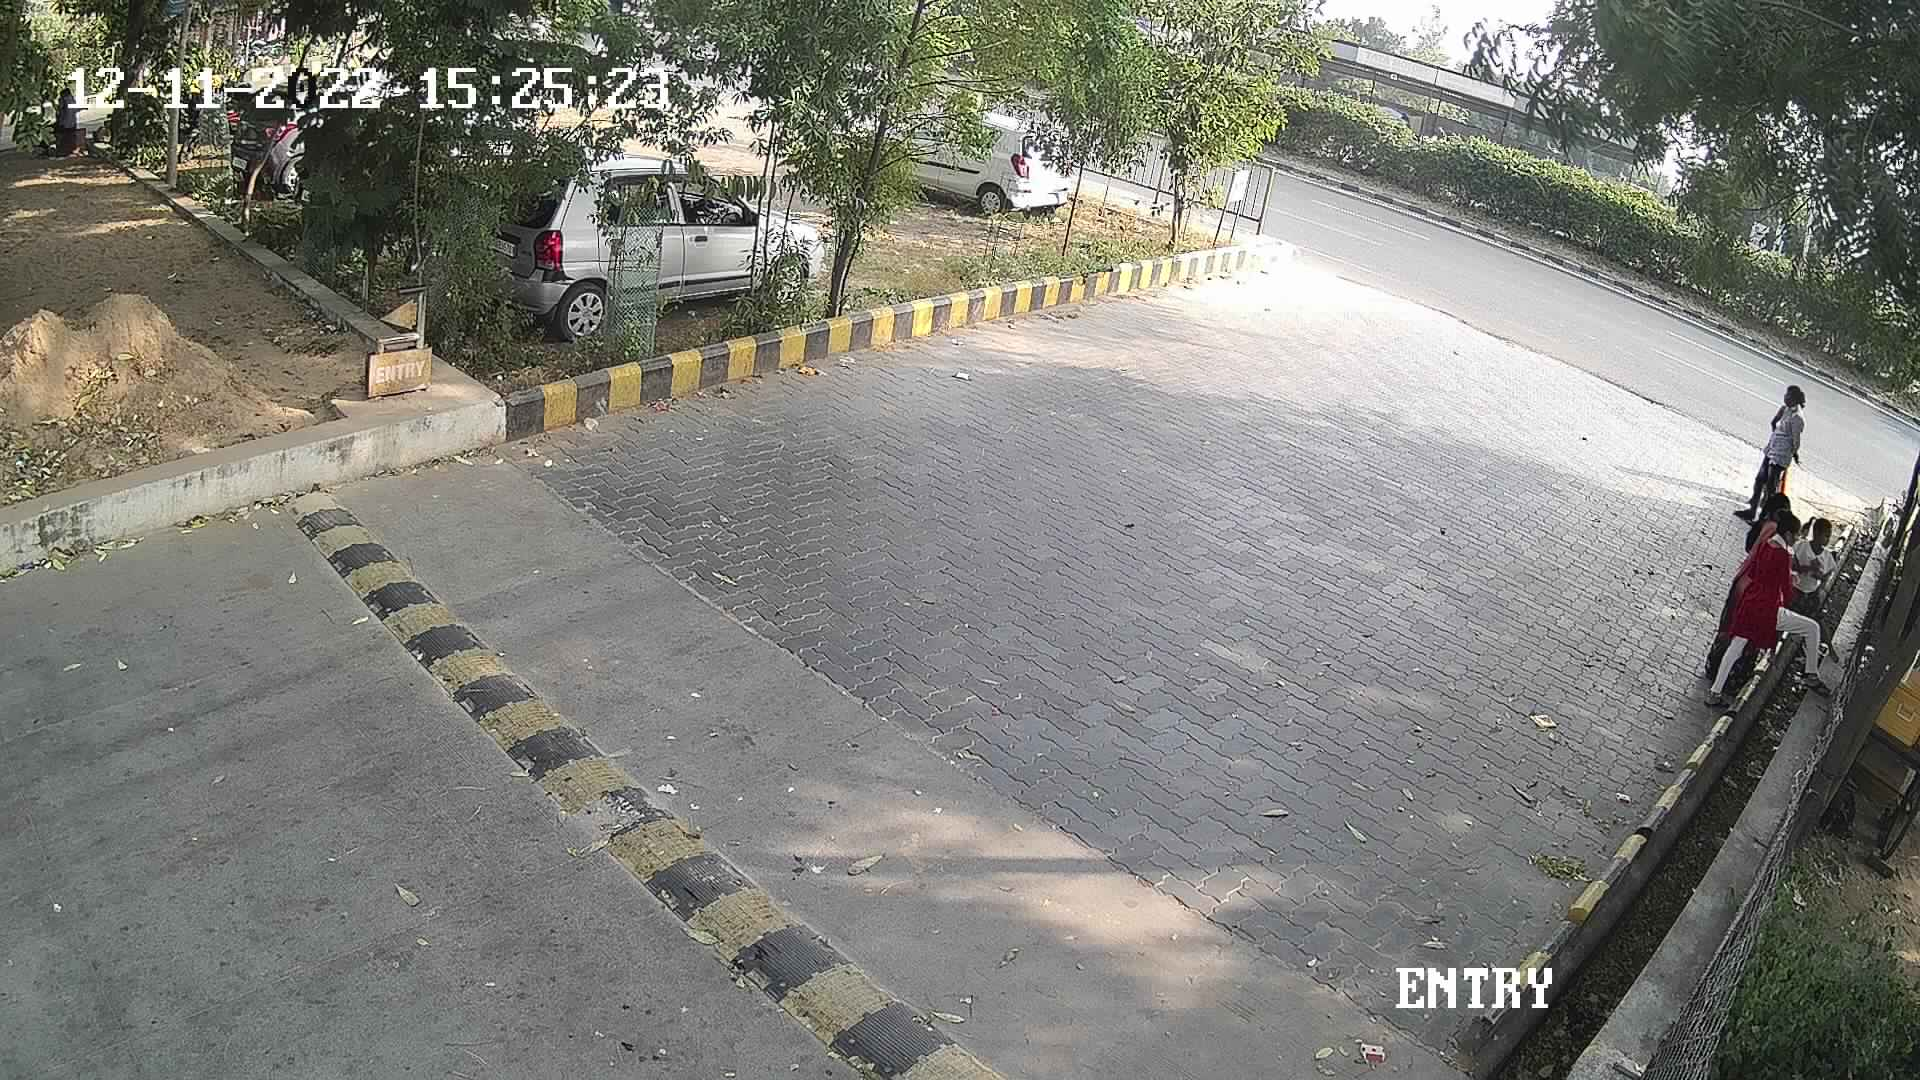Car: (440, 133, 827, 344), (837, 95, 1081, 218)
